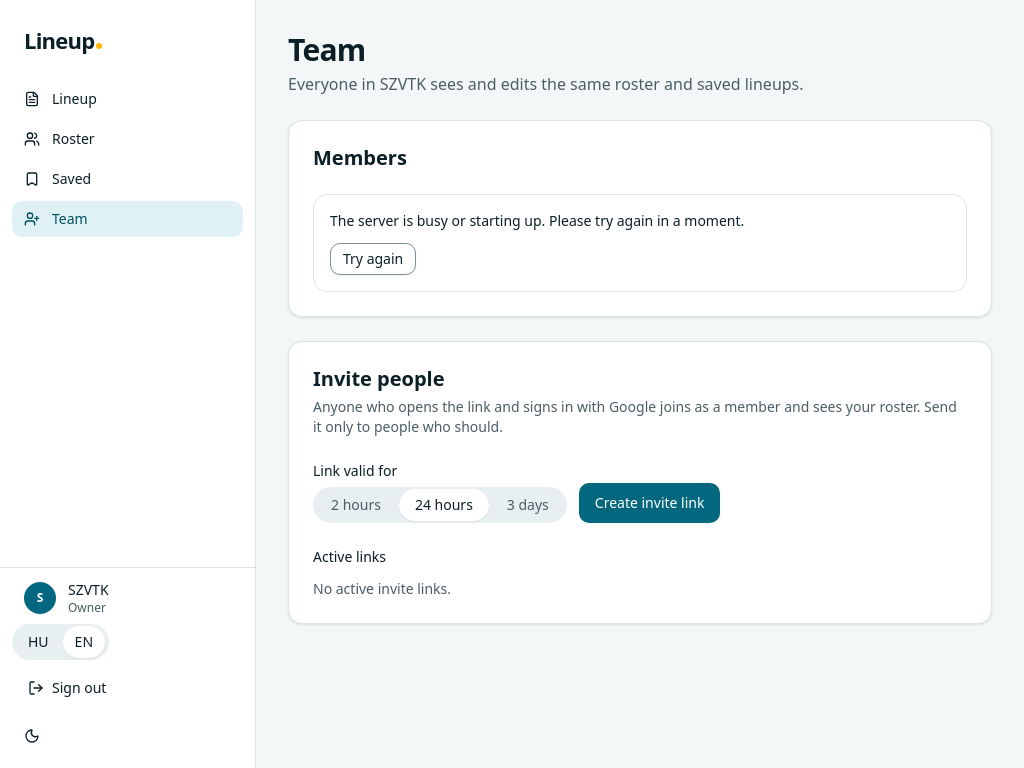
Test: members list › offers a retry when the list cannot be loaded
Expected: the text "busy or starting up" is shown, 330,211 -> 744,230
Click the button "Try again".
click(373, 259)  # box 330,243 -> 416,275
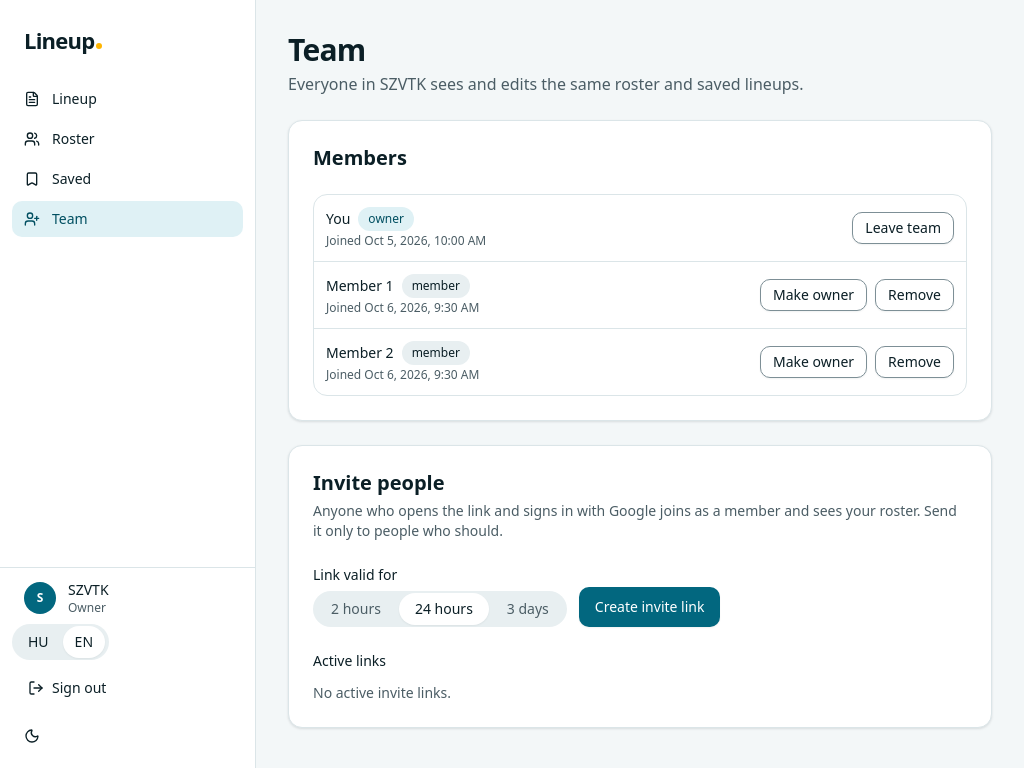
Result: the text "Member 1" is shown at 326,276 -> 394,295
